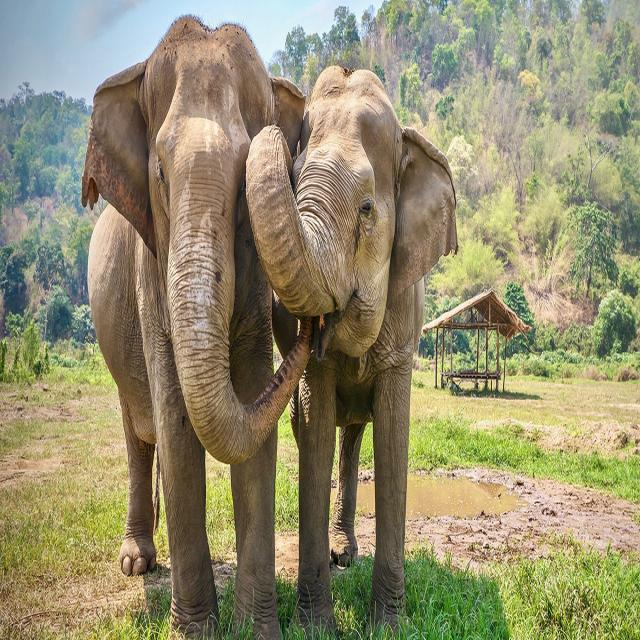Elephant: (69, 25, 294, 629), (260, 57, 460, 633)
